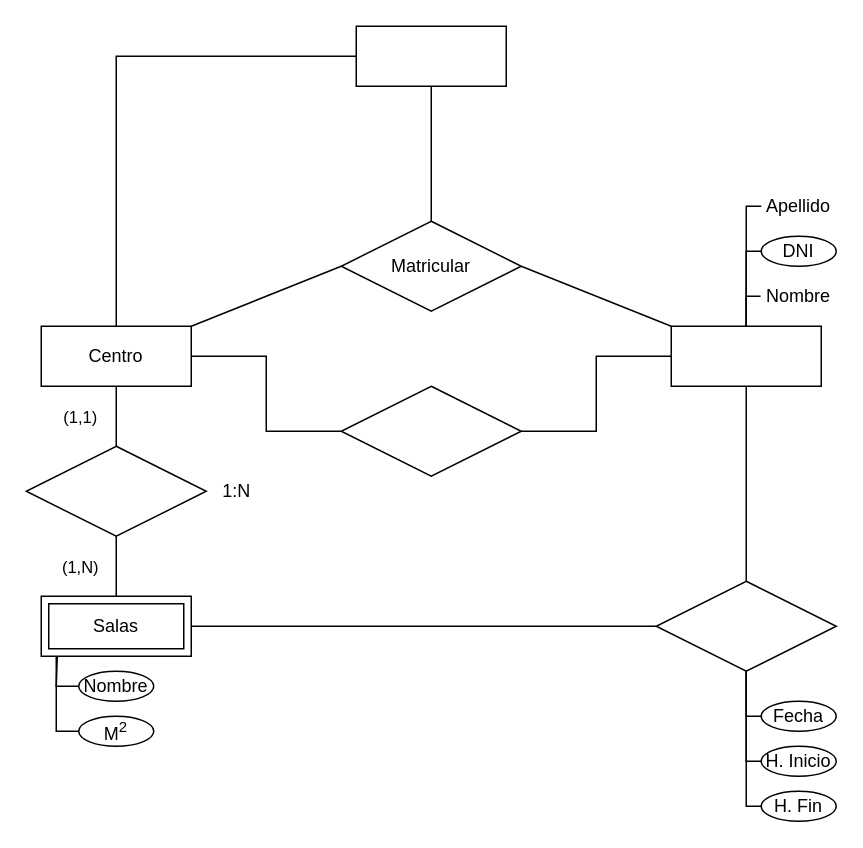
The diagram is 863 pixels wide and 848 high, and some of its shapes have lost their labels. The shapes that lost their labels are listed below. From the top down, each one's centre as x and y in pixels, then its label:
(430,55): Actividades
(745,355): Socios
(430,430): Pertenecen
(115,490): Tienen
(745,625): Reservar
